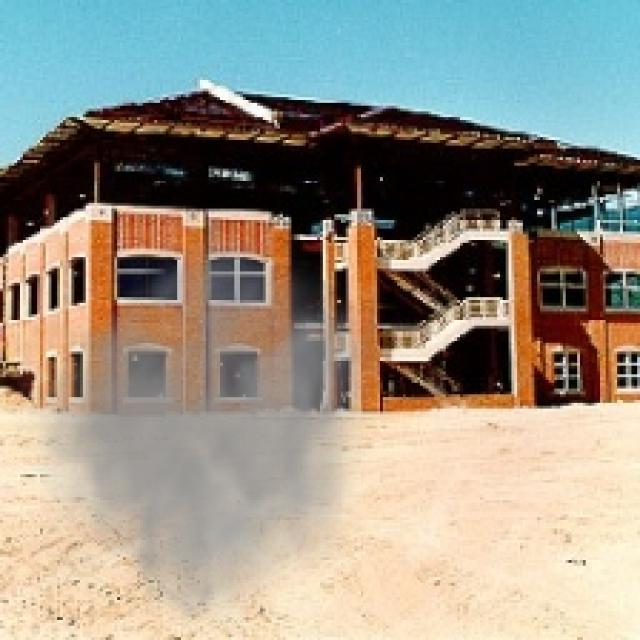Smoke: (0, 214, 380, 637)
